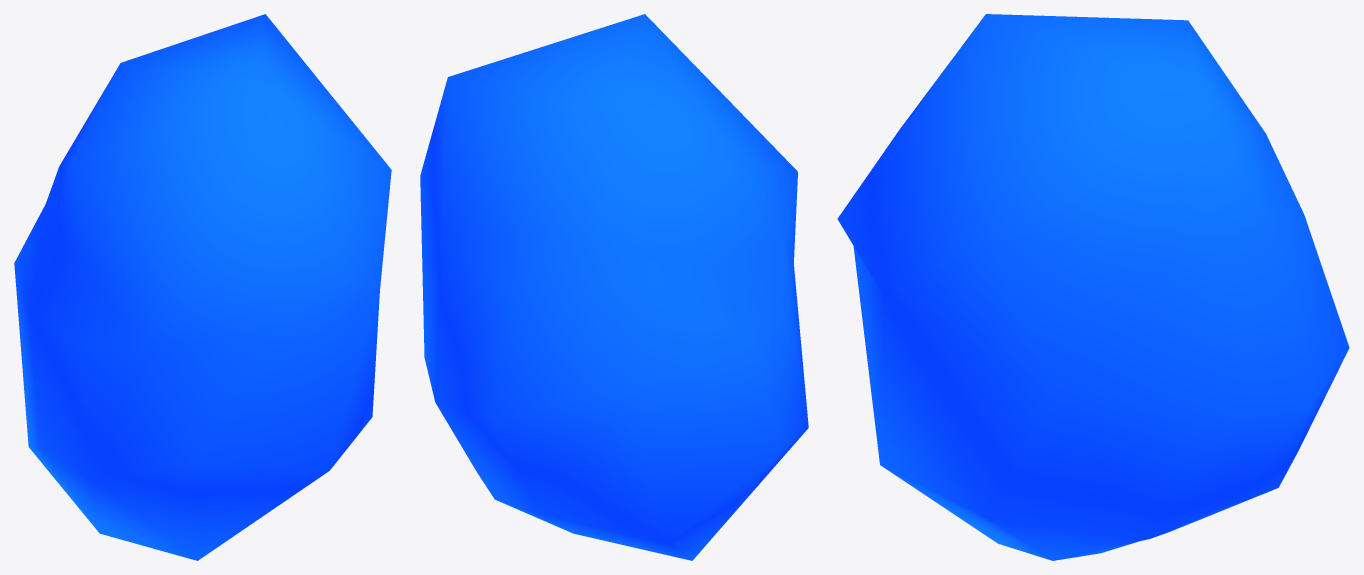
The model's file is moneda_fantasma.glb.
3 renders of one model, left to right at view 1: azimuth 30°, elevation 25°; view 2: azimuth 150°, elevation 25°; view 3: azimuth 270°, elevation 25°, orthographic. The views are drawn at different scales.
Visible parts, largest first — view 1: Esfera geodésica; view 2: Esfera geodésica; view 3: Esfera geodésica.
Part boxes in pixels (x1=…): Esfera geodésica: x1=14, y1=14, x2=391, y2=560; Esfera geodésica: x1=420, y1=14, x2=808, y2=560; Esfera geodésica: x1=837, y1=14, x2=1349, y2=560.
Bounding box in the file's own units: 1.23 × 1.73 × 1.44.
